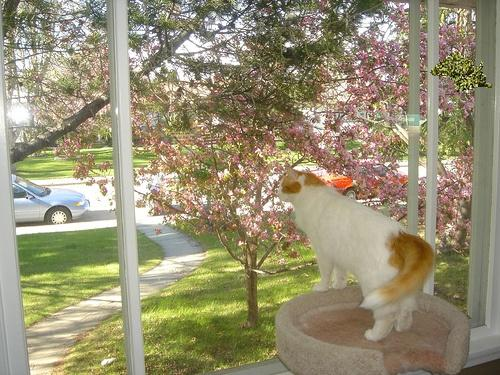tampered: (431, 53, 492, 92)
